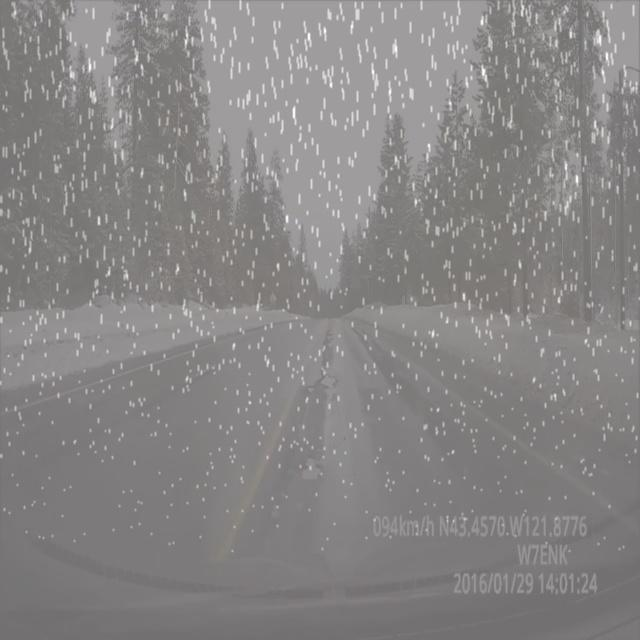Pothole: (299, 446, 330, 490), (320, 372, 340, 398)
